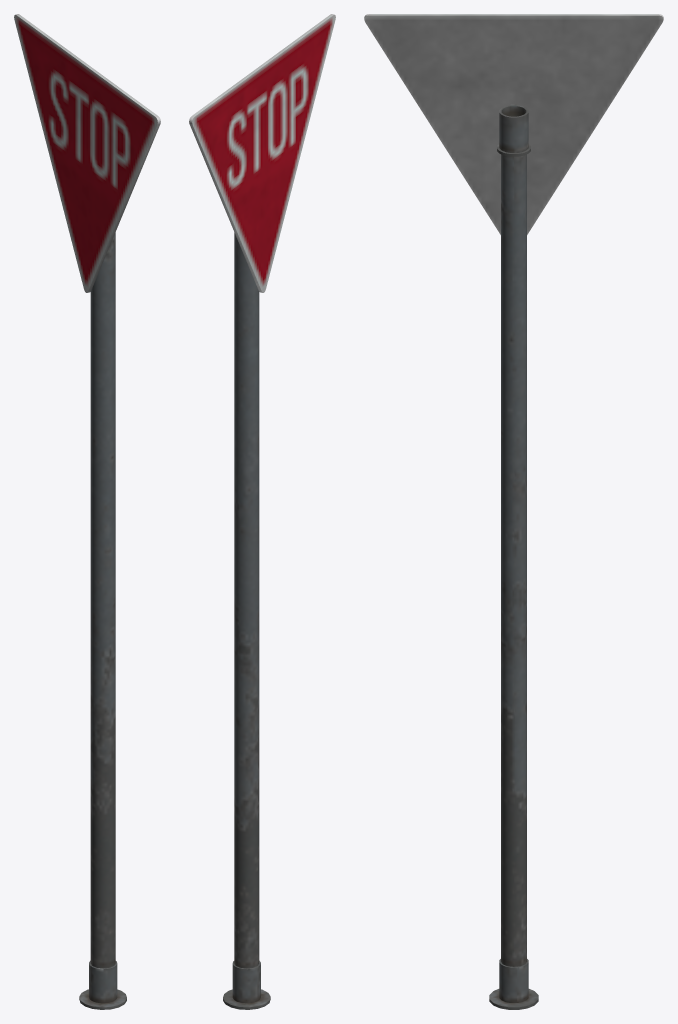
Rendered from SM_Sign_6_Stop.fbx.
The picture shows the model from 3 angles, left to right: view 1: azimuth 30°, elevation 25°; view 2: azimuth 150°, elevation 25°; view 3: azimuth 270°, elevation 25°; orthographic projection. The views are drawn at different scales.
Visible parts, largest first — view 1: SM_Sign_6_Stop_LOD0; view 2: SM_Sign_6_Stop_LOD0; view 3: SM_Sign_6_Stop_LOD0.
Part boxes in pixels (x1,y1,x2,y2): SM_Sign_6_Stop_LOD0: [14, 14, 160, 1009]; SM_Sign_6_Stop_LOD0: [189, 14, 335, 1009]; SM_Sign_6_Stop_LOD0: [364, 14, 663, 1009].
Bounding box in the file's own units: 11.52 × 70.42 × 253.
Materials: 2 (2 with a texture image).
